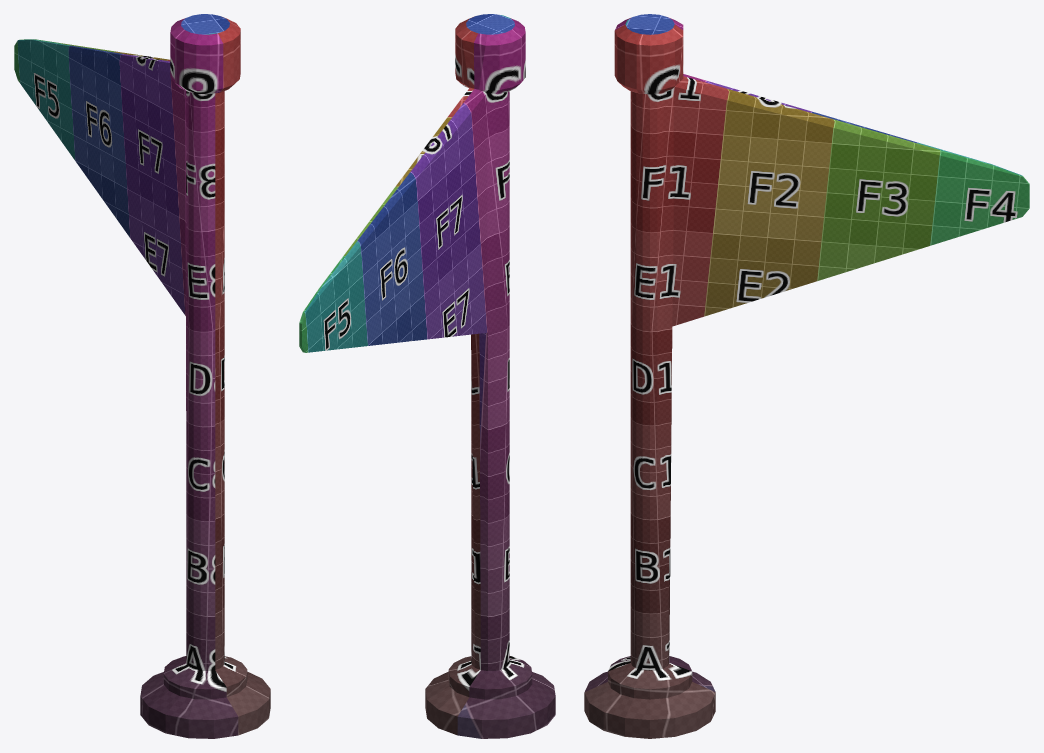
File: flag.gltf
3 renders of one model, left to right at view 1: azimuth 30°, elevation 25°; view 2: azimuth 150°, elevation 25°; view 3: azimuth 270°, elevation 25°, orthographic.
Parts seen in each view (by area): view 1: Cylinder; view 2: Cylinder; view 3: Cylinder.
Boxes of the visible parts, x1,y1,x2,y2 form: Cylinder: [14, 14, 270, 738]; Cylinder: [299, 14, 555, 738]; Cylinder: [584, 14, 1029, 738].
Size of the model in its own units: 0.1473 by 0.8495 by 0.499.
1 material, 1 textured.
